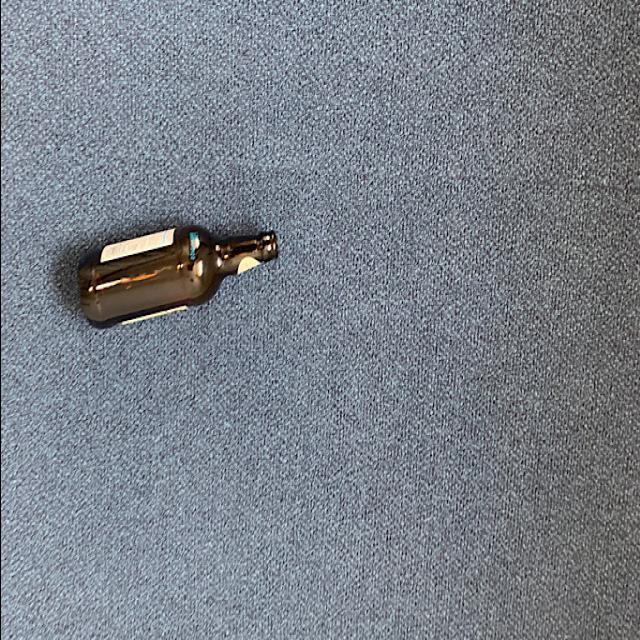Glass Bottle: (75, 222, 277, 332)
